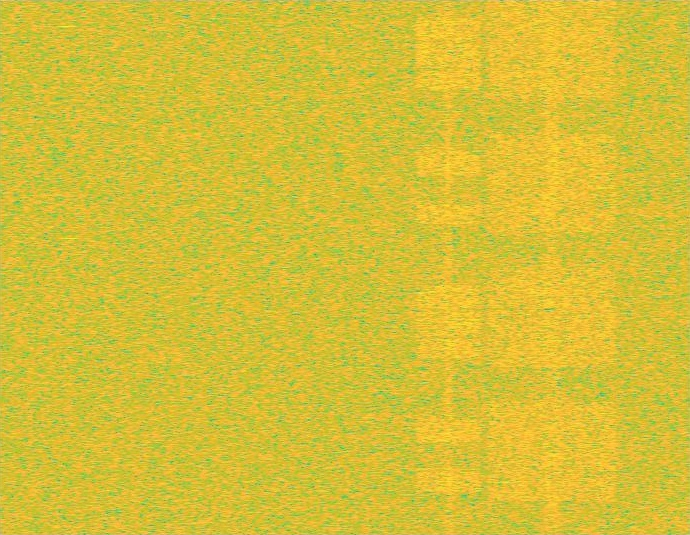5G: (483, 0, 621, 534)
DSSS: (543, 0, 561, 534), (444, 0, 453, 534)
LTE: (414, 0, 483, 534)
Radar: (62, 0, 75, 534)
